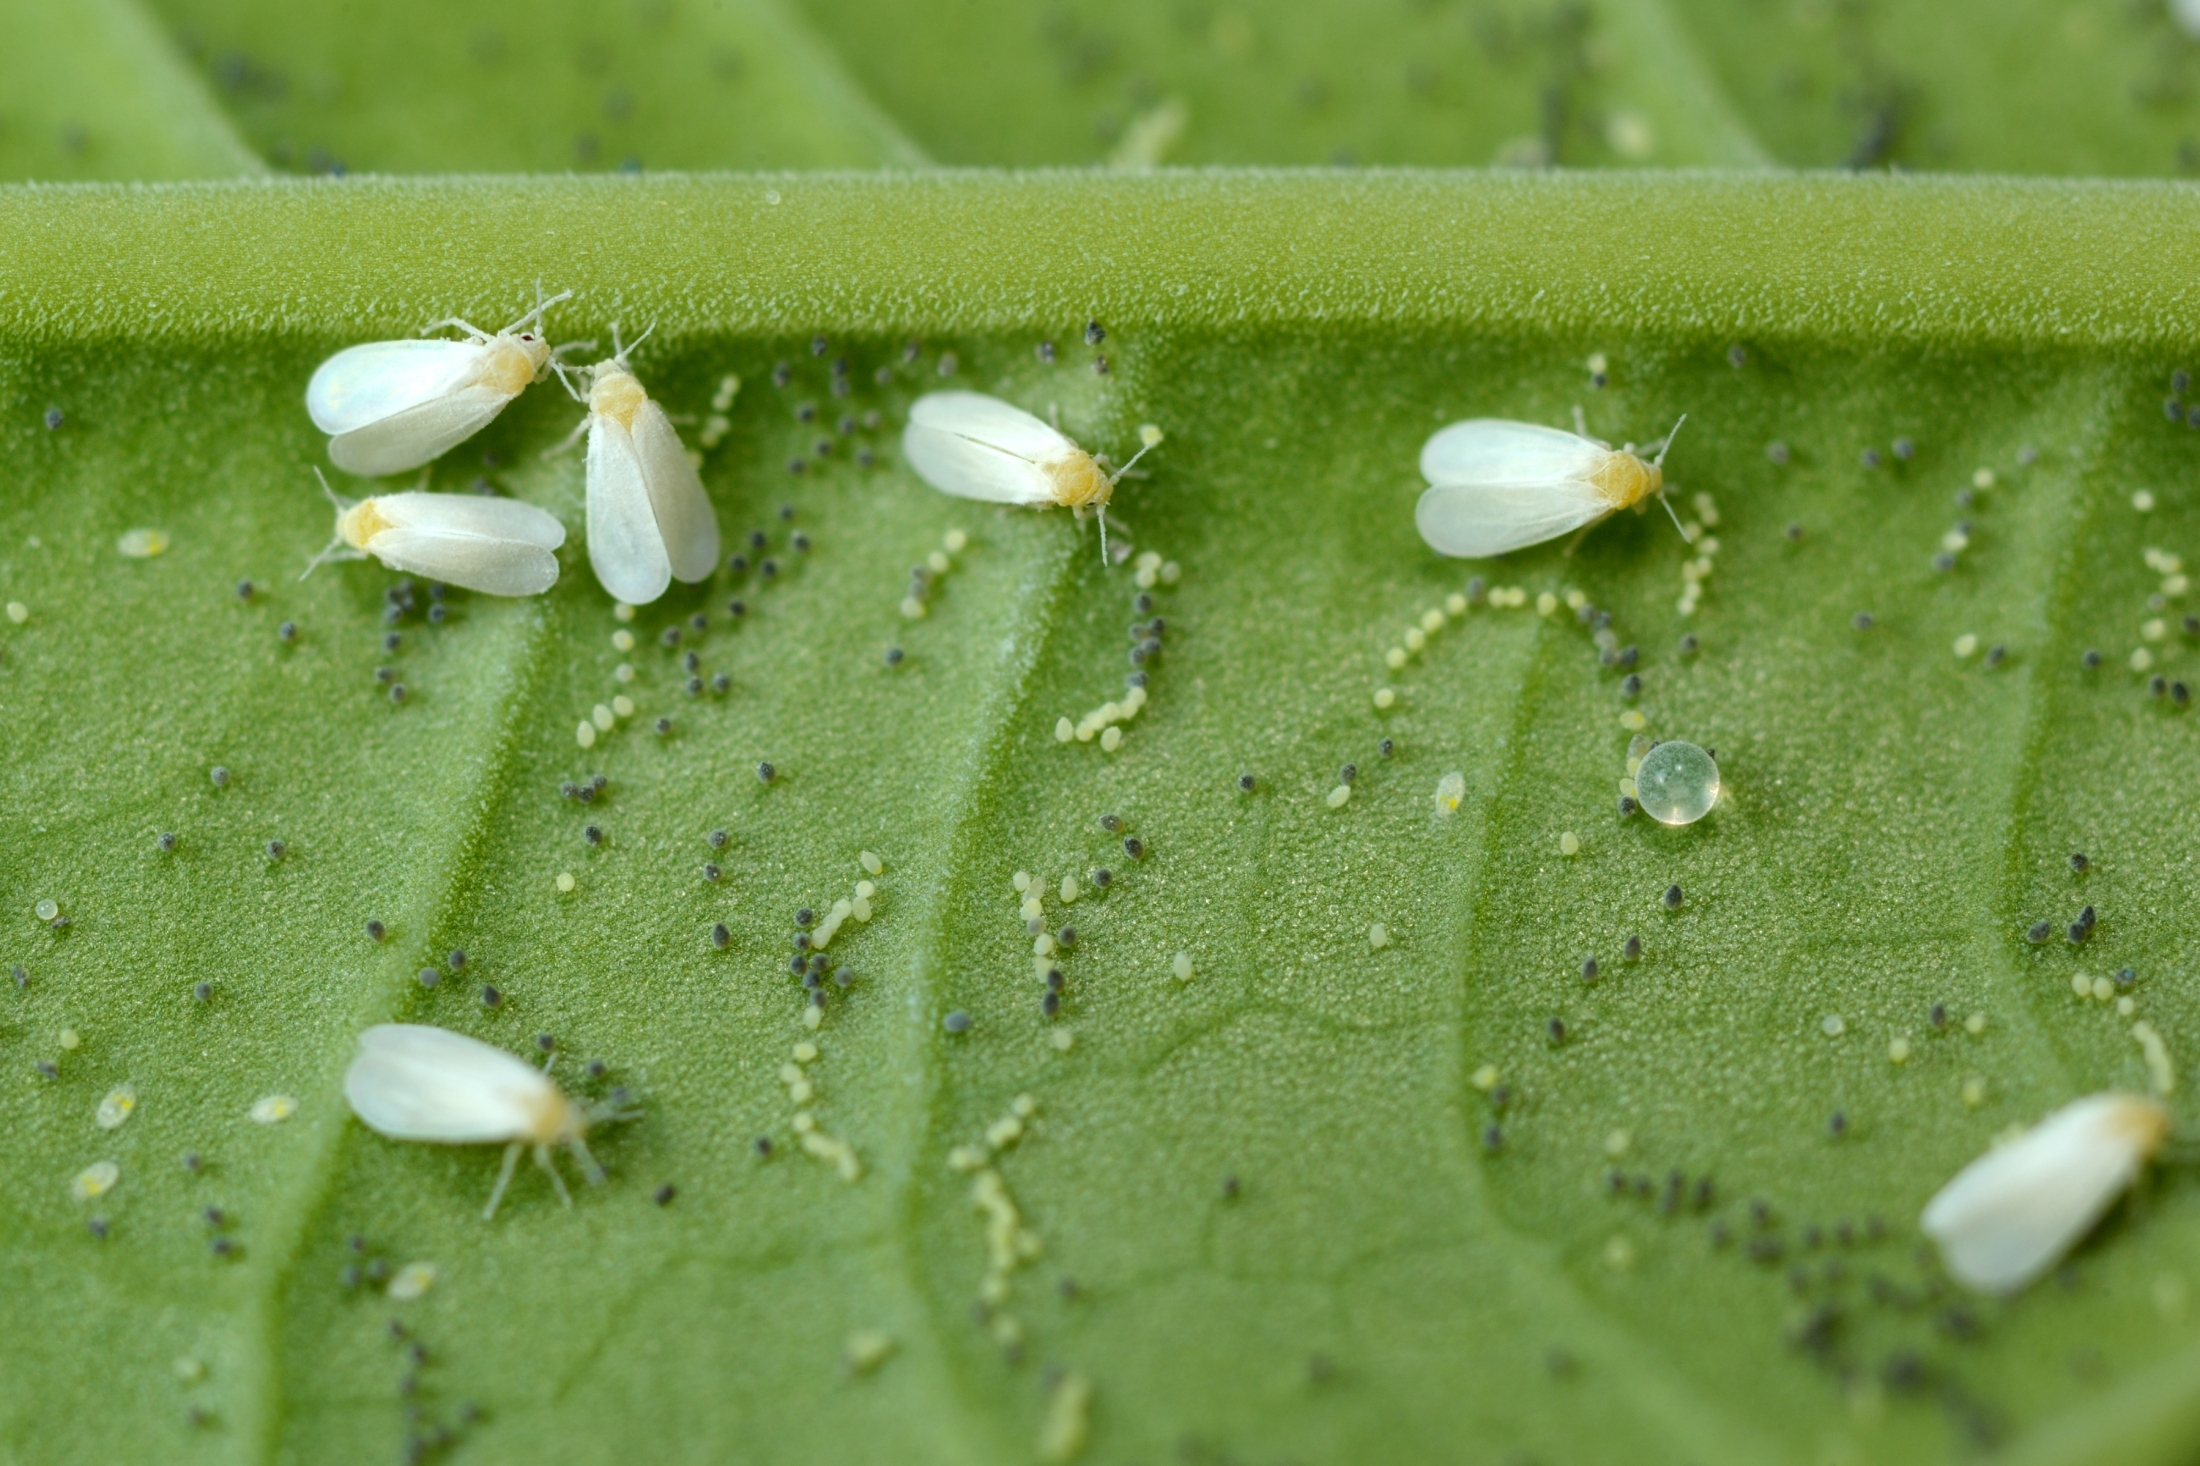Tobacco Whitefly: (304, 1013, 689, 1269), (1382, 354, 1685, 625), (302, 464, 604, 679), (297, 264, 597, 459), (885, 369, 1155, 586), (543, 301, 694, 632)
